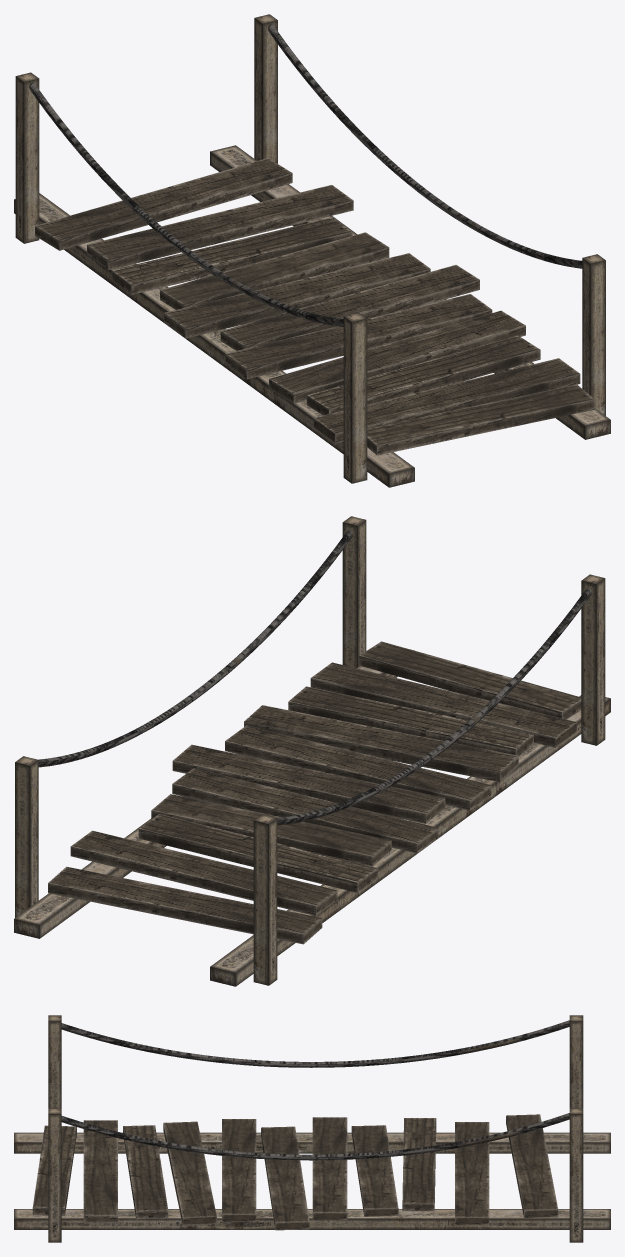
The model's file is bridge.glb.
3 views of the same model, one above another, from view 1: azimuth 30°, elevation 25°; view 2: azimuth 150°, elevation 25°; view 3: azimuth 270°, elevation 25° (orthographic). The views are drawn at different scales.
Visible parts, largest first — view 1: Object_2; view 2: Object_2; view 3: Object_2.
Boxes of the visible parts, bbox=[...] form: Object_2: bbox=[14, 14, 610, 487]; Object_2: bbox=[14, 516, 610, 986]; Object_2: bbox=[14, 1015, 610, 1242].
Size of the model in its own units: 4.33 by 2.4 by 10.11.
Materials: 1 (1 with a texture image).
